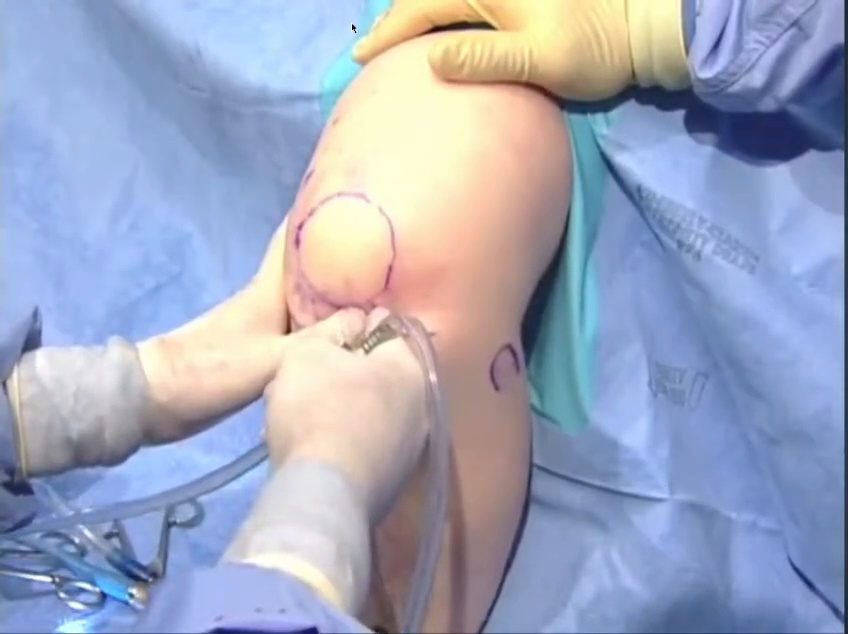arthroscope: (424, 13, 730, 634), (23, 129, 402, 508)
probe: (718, 126, 848, 634), (574, 0, 848, 128), (64, 141, 168, 234)
